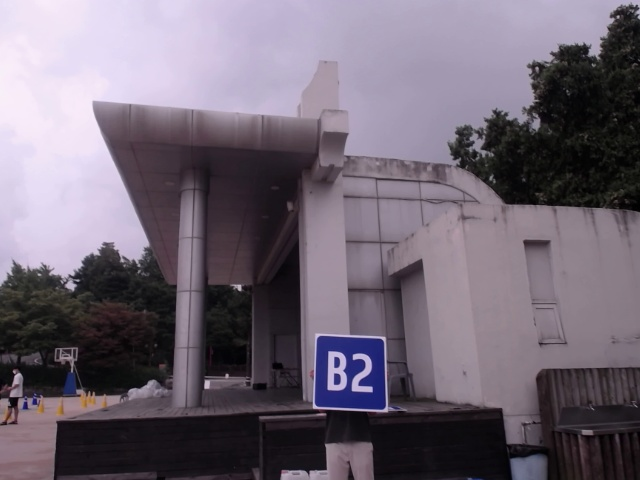delivery_b2: (314, 333, 386, 413)
